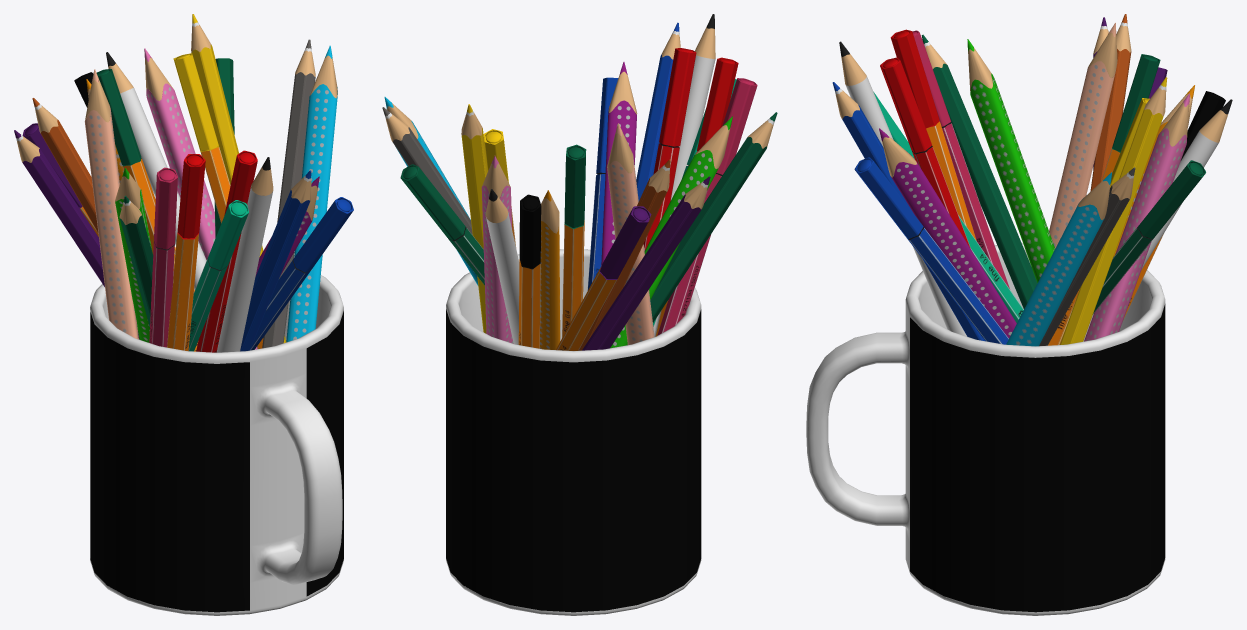
File: cup-transformed.glb
The picture shows the model from 3 angles, left to right: view 1: azimuth 30°, elevation 25°; view 2: azimuth 150°, elevation 25°; view 3: azimuth 270°, elevation 25°; orthographic projection. The views are drawn at different scales.
Parts seen in each view (by area): view 1: Tasse_1, Buntstift 2.001_21, Buntstift 2.002_22, Fineliner.005_13, Bleistift.002_20, Buntstift 2.006_25, Filzstift.005_12, Buntstift 1.002_15, Buntstift 1.006_19, Buntstift 1.004_17, Filzstift.002_6, Fineliner.002_7 (+11 smaller); view 2: Tasse_1, Buntstift 1.003_16, Buntstift 1.004_17, Fineliner.004_11, Fineliner.001_3, Buntstift 2.001_21, Fineliner.003_9, Filzstift.005_12, Filzstift.004_10, Buntstift 2.005_24, Buntstift 2.006_25, Filzstift.003_8 (+12 smaller); view 3: Tasse_1, Buntstift 2.003_23, Buntstift 1.003_16, Buntstift 2.004_14, Buntstift 2.001_21, Buntstift 2.002_22, Buntstift 2.006_25, Filzstift.002_6, Buntstift 1.005_18, Filzstift.004_10, Fineliner.005_13, Filzstift.003_8 (+10 smaller).
Part boxes in pixels (x1,y1,x2,y2): Tasse_1: (90,275,343,615); Buntstift 2.001_21: (84,69,138,339); Buntstift 2.002_22: (286,45,337,342); Fineliner.005_13: (167,154,205,351); Bleistift.002_20: (216,157,273,352); Buntstift 2.006_25: (144,48,257,349); Filzstift.005_12: (149,167,177,347); Buntstift 1.002_15: (240,170,311,351); Buntstift 1.006_19: (262,39,315,348); Buntstift 1.004_17: (14,130,139,339); Filzstift.002_6: (250,197,353,350); Fineliner.002_7: (173,53,263,348); Tasse_1: (446,249,701,615); Buntstift 1.003_16: (627,112,777,345); Buntstift 1.004_17: (582,176,710,350); Fineliner.004_11: (562,144,586,337); Fineliner.001_3: (556,206,651,350); Buntstift 2.001_21: (607,123,654,344); Fineliner.003_9: (518,194,541,348); Filzstift.005_12: (657,78,757,335); Filzstift.004_10: (643,48,696,250); Buntstift 2.005_24: (540,190,560,349); Buntstift 2.006_25: (481,156,513,343); Filzstift.003_8: (400,164,484,285); Tasse_1: (806,243,1165,615); Buntstift 2.003_23: (967,39,1055,282); Buntstift 1.003_16: (921,34,1037,308); Buntstift 2.004_14: (879,128,1016,338); Buntstift 2.001_21: (1049,22,1117,248); Buntstift 2.002_22: (1006,172,1111,346); Buntstift 2.006_25: (1084,93,1189,341); Filzstift.002_6: (854,157,1008,344); Buntstift 1.005_18: (1060,77,1167,344); Filzstift.004_10: (880,57,970,248); Fineliner.005_13: (890,29,976,240); Filzstift.003_8: (1093,160,1205,313).
Bounding box in the file's own units: 0.1518 × 0.2233 × 0.1709.
36 materials, 23 textured.
